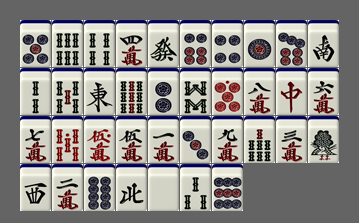0m: (84, 116, 115, 163)
0p: (212, 68, 243, 115)
0s: (52, 116, 83, 163)
1m: (148, 116, 179, 163)
1p: (244, 20, 275, 67)
1s: (308, 116, 339, 163)
1z: (84, 68, 115, 115)
2m: (52, 164, 83, 211)
2p: (148, 68, 179, 115)
2s: (20, 68, 51, 115)
2z: (308, 20, 339, 67)
3m: (276, 116, 307, 163)
3p: (180, 116, 211, 163)
3s: (180, 164, 211, 211)
3z: (20, 164, 51, 211)
4m: (116, 20, 147, 67)
4p: (212, 20, 243, 67)
4s: (84, 20, 115, 67)
4z: (116, 164, 147, 211)
5m: (116, 116, 147, 163)
5p: (20, 20, 51, 67)
5s: (52, 68, 83, 115)
5z: (148, 164, 179, 211)
6m: (308, 68, 339, 115)
6p: (180, 20, 211, 67)
6s: (52, 20, 83, 67)
6z: (148, 20, 179, 67)
7m: (20, 116, 51, 163)
7p: (276, 20, 307, 67)
7s: (244, 116, 275, 163)
7z: (276, 68, 307, 115)
8m: (244, 68, 275, 115)
8p: (84, 164, 115, 211)
8s: (180, 68, 211, 115)
9m: (212, 116, 243, 163)
9p: (212, 164, 243, 211)
9s: (116, 68, 147, 115)
